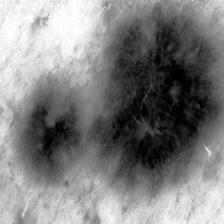Benign Marking or Mole: (103, 10, 224, 185), (17, 85, 91, 183)
